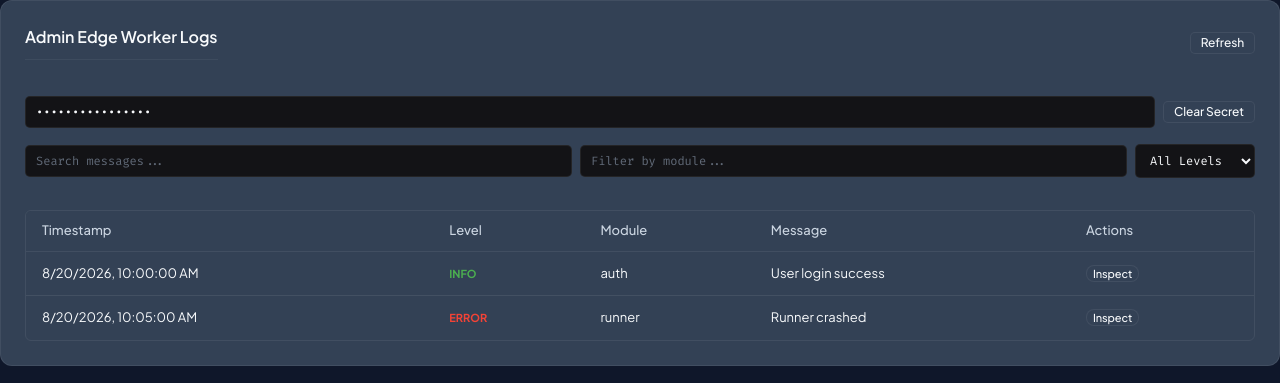
Test: AdminLogsTab Component › filters logs by search query, module, and level when authenticated
The width and height of the screenshot is (1280, 383).
Check: the text "User login success" is shown, box [755, 251, 1070, 296]
# Search message filter
Type "login" into the field with placeholder "Search messages..." at coordinates (298, 161), box [25, 145, 572, 177]
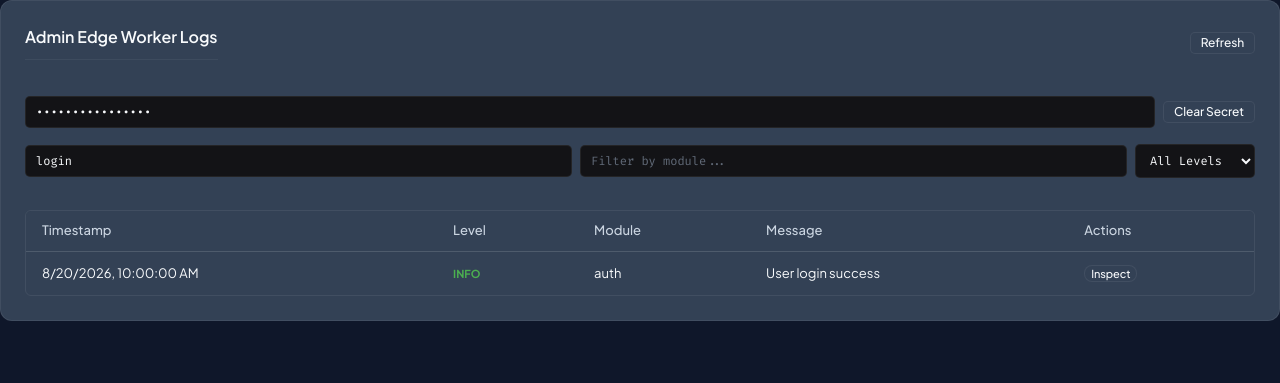
Check: the text "User login success" is shown, box [750, 251, 1068, 295]
Check: the text "Runner crashed" is gone
# Clear search
Clear the field with placeholder "Search messages..." at coordinates (298, 161), box [25, 145, 572, 177]
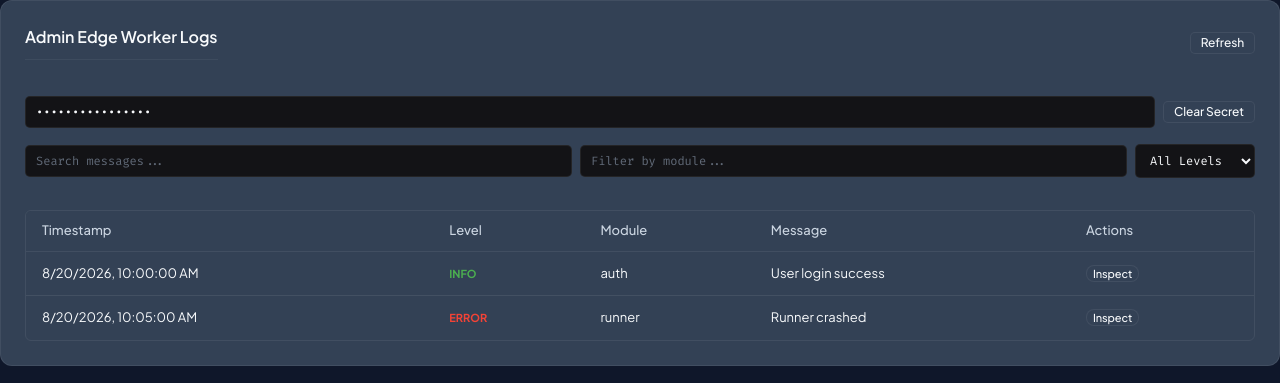
# Level filter
Select "Error" in the dropdown at coordinates (1195, 161), box [1135, 144, 1255, 178]
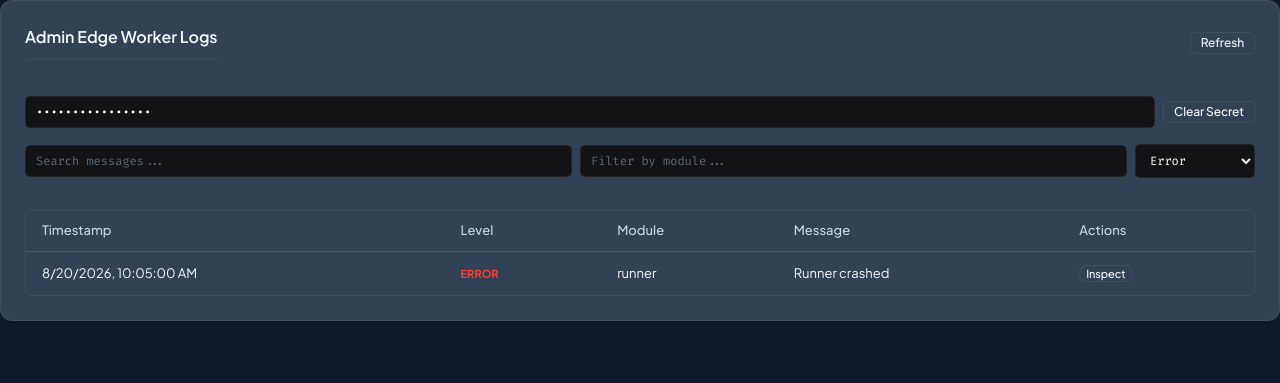
Check: the text "Runner crashed" is shown, box [778, 251, 1063, 295]
Check: the text "User login success" is gone
